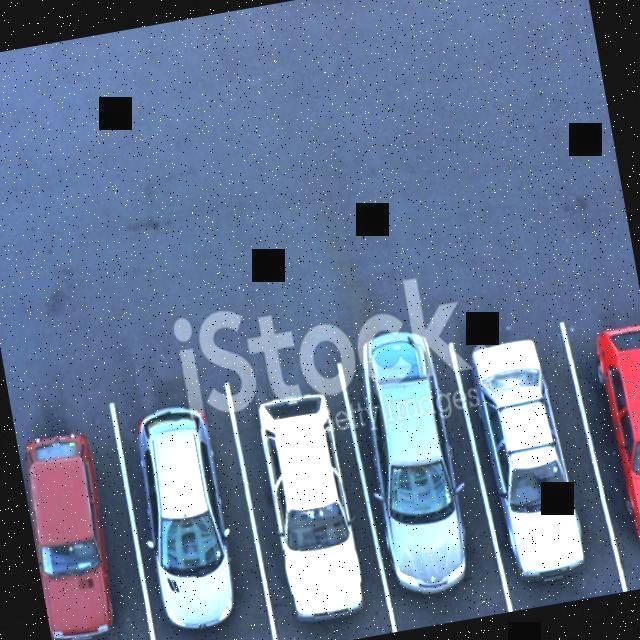car: (227, 361, 391, 640), (458, 328, 616, 612), (349, 348, 498, 630), (115, 382, 273, 640), (13, 407, 156, 640), (576, 312, 640, 588)
